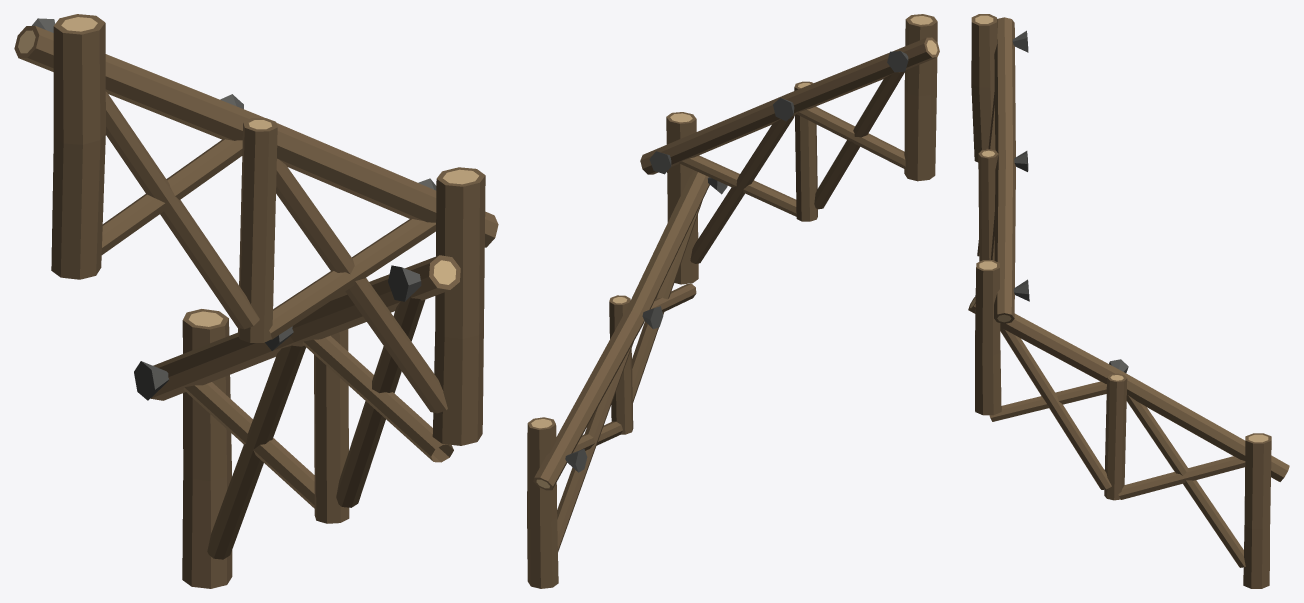
Rendered from rpgpp_ag_wall_platform_stairs_02b_4m_handrail_01.fbx.
The picture shows the model from 3 angles, left to right: view 1: azimuth 30°, elevation 25°; view 2: azimuth 150°, elevation 25°; view 3: azimuth 270°, elevation 25°; orthographic projection. The views are drawn at different scales.
Visible parts, largest first — view 1: rpgpp_ag_wall_platform_stairs_02b_4m_handrail_01; view 2: rpgpp_ag_wall_platform_stairs_02b_4m_handrail_01; view 3: rpgpp_ag_wall_platform_stairs_02b_4m_handrail_01.
Part boxes in pixels (x1,y1,x2,y2): rpgpp_ag_wall_platform_stairs_02b_4m_handrail_01: (14,14,498,588); rpgpp_ag_wall_platform_stairs_02b_4m_handrail_01: (527,14,939,588); rpgpp_ag_wall_platform_stairs_02b_4m_handrail_01: (968,14,1289,588).
Bounding box in the file's own units: 3.23 × 5.32 × 3.35.
